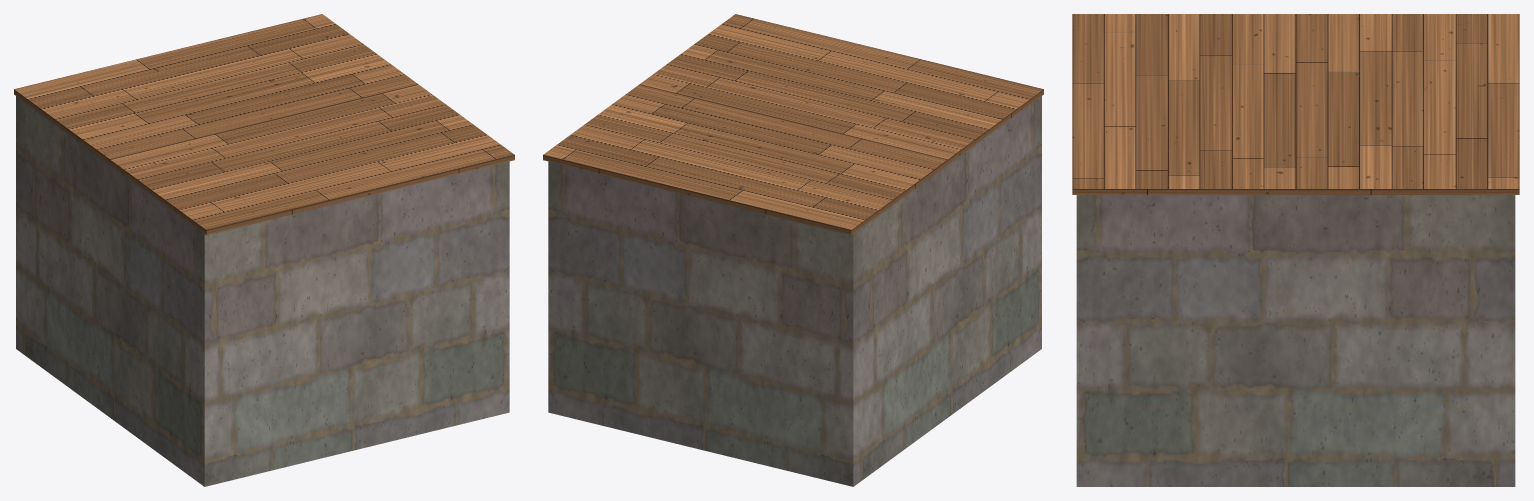
File: floor_wood_g_e15_0_0_0.glb
3 views of the same model, side by side, from view 1: azimuth 30°, elevation 25°; view 2: azimuth 150°, elevation 25°; view 3: azimuth 270°, elevation 25° (orthographic). The views are drawn at different scales.
Visible parts, largest first — view 1: floor_wood_g_e15_0_0_0_plinth, floor_wood_g_e15_0_0_0_floor; view 2: floor_wood_g_e15_0_0_0_plinth, floor_wood_g_e15_0_0_0_floor; view 3: floor_wood_g_e15_0_0_0_plinth, floor_wood_g_e15_0_0_0_floor.
Part boxes in pixels (box(x1,y1,x2,y2)): floor_wood_g_e15_0_0_0_plinth: box(16, 96, 509, 486); floor_wood_g_e15_0_0_0_floor: box(14, 14, 514, 235); floor_wood_g_e15_0_0_0_plinth: box(548, 96, 1041, 486); floor_wood_g_e15_0_0_0_floor: box(543, 14, 1043, 235); floor_wood_g_e15_0_0_0_plinth: box(1076, 195, 1515, 486); floor_wood_g_e15_0_0_0_floor: box(1072, 14, 1519, 194).
Bounding box in the file's own units: 1.85 × 1.48 × 2.
2 materials, 2 textured.
